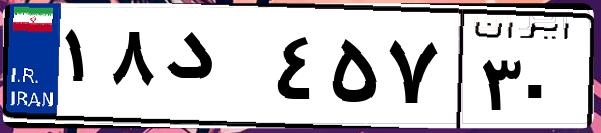0: (525, 38, 570, 115)
1: (57, 26, 110, 100)
3: (475, 38, 525, 113)
4: (270, 28, 330, 110)
5: (330, 28, 385, 110)
7: (385, 28, 445, 110)
8: (110, 28, 158, 98)
د: (158, 20, 270, 120)
